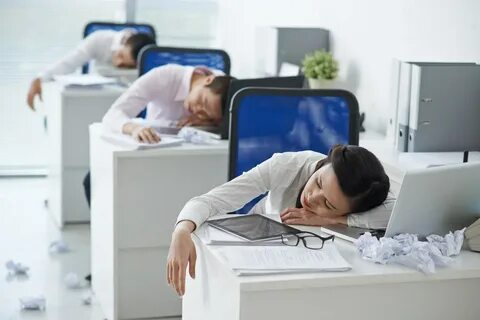sleep: (162, 144, 397, 267), (25, 27, 157, 111), (103, 64, 240, 143)
